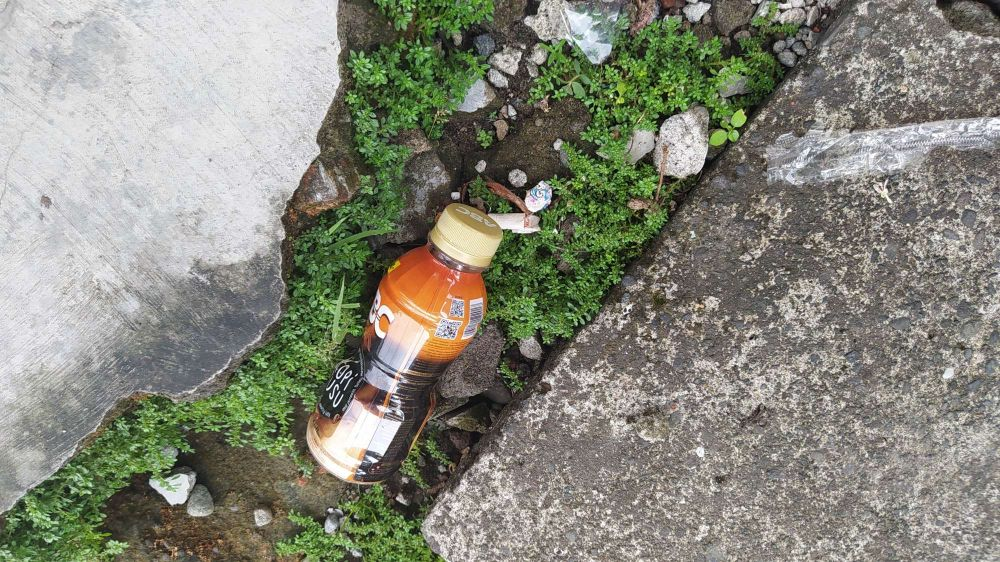botol: (308, 152, 509, 513)
